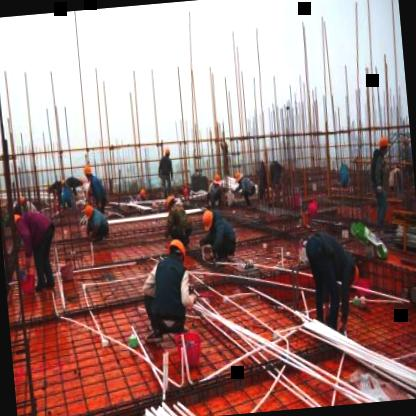helmet: (165, 234, 188, 266), (346, 262, 366, 290), (201, 205, 219, 233), (377, 136, 392, 158), (211, 168, 226, 190), (164, 190, 179, 212), (9, 210, 22, 235), (83, 202, 94, 220), (82, 164, 94, 180)
